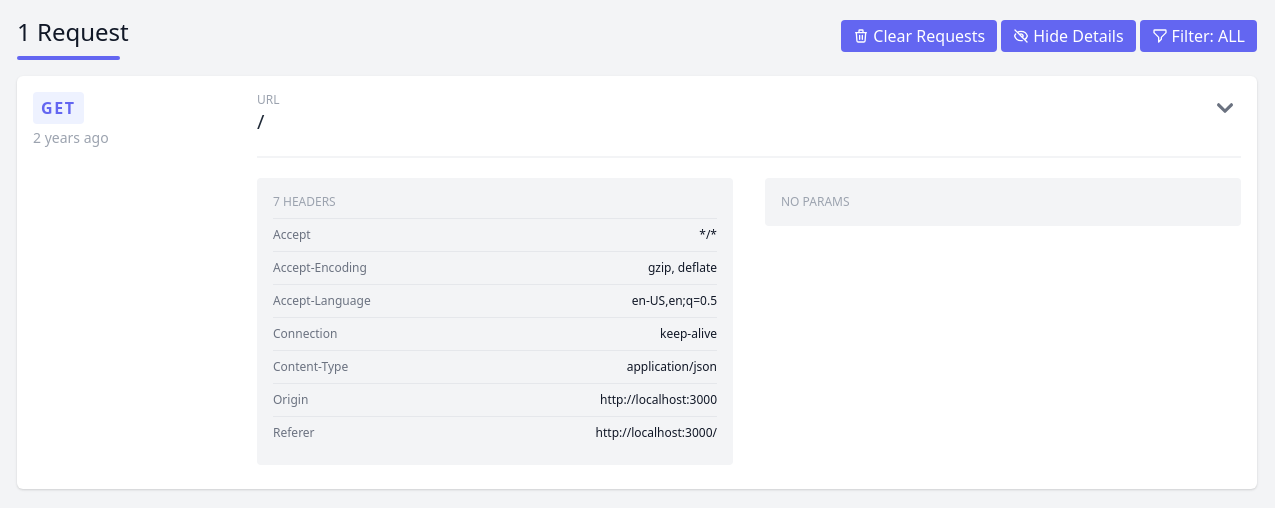
it: Requests fetches and renders requests › clear requests button clears all requests
Expected: the heading "1 Request" is shown, x1=17 y1=16 x2=129 y2=48
Click the button "Clear Requests" at (919, 36), box x1=841 y1=20 x2=997 y2=52
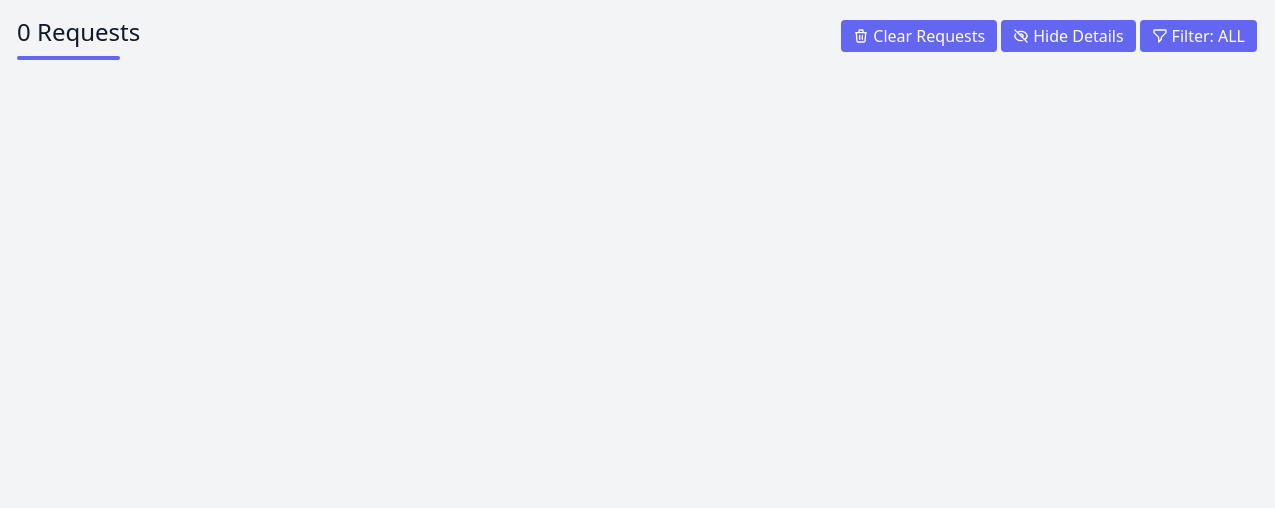
Expected: the heading "0 Requests" is shown, x1=17 y1=16 x2=140 y2=48
